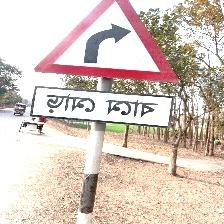Left-Turn: (31, 0, 181, 128)
